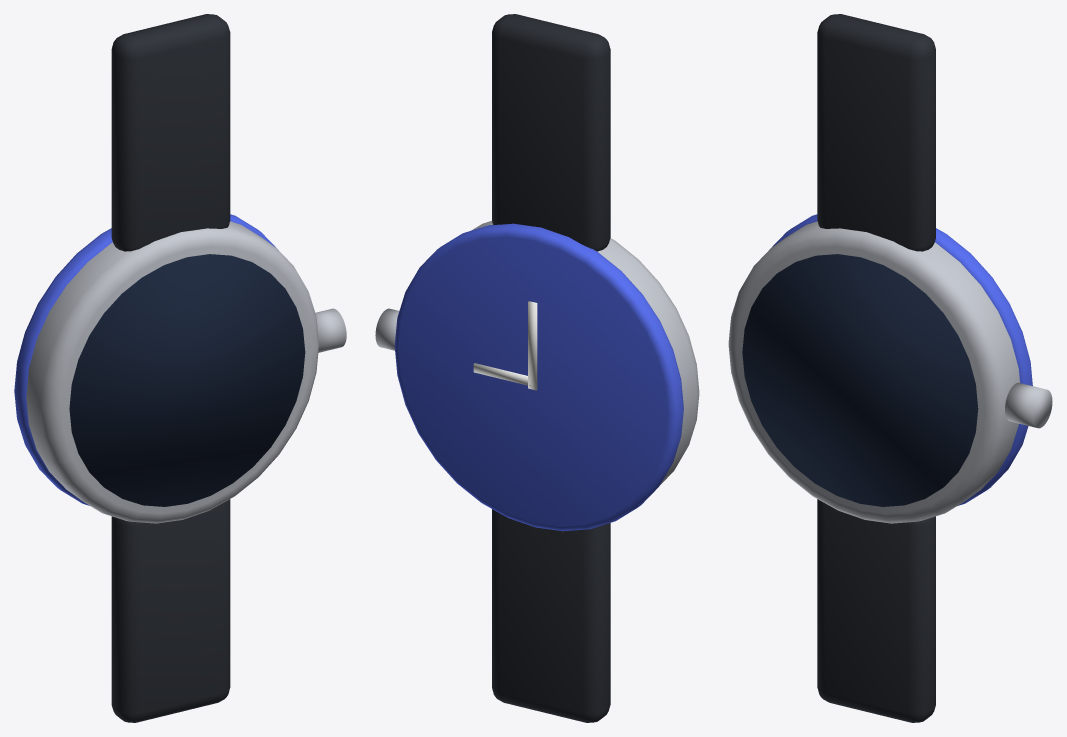
The model's file is watch.glb.
The picture shows the model from 3 angles, left to right: view 1: azimuth 30°, elevation 25°; view 2: azimuth 150°, elevation 25°; view 3: azimuth 330°, elevation 25°; orthographic projection.
Parts seen in each view (by area): view 1: face, strap.001, strap, case, bezel, crown; view 2: bezel, strap.001, strap, case, hand, crown, hand2; view 3: face, strap.001, strap, case, bezel, crown.
Boxes of the visible parts, bbox=[...] form: face: bbox=[69, 254, 305, 506]; strap.001: bbox=[111, 14, 230, 251]; strap: bbox=[111, 499, 230, 722]; case: bbox=[26, 221, 318, 523]; bezel: bbox=[14, 214, 278, 505]; crown: bbox=[315, 308, 346, 352]; bezel: bbox=[394, 223, 683, 531]; strap.001: bbox=[492, 14, 610, 251]; strap: bbox=[492, 509, 610, 722]; case: bbox=[472, 221, 699, 484]; hand: bbox=[528, 301, 537, 390]; crown: bbox=[375, 308, 399, 350]; hand2: bbox=[473, 363, 533, 385]; face: bbox=[742, 254, 978, 506]; strap.001: bbox=[817, 14, 935, 251]; strap: bbox=[817, 499, 935, 722]; case: bbox=[728, 221, 1019, 523]; bezel: bbox=[769, 214, 1032, 505]; crown: bbox=[1005, 382, 1052, 428].
Bounding box in the file's own units: 0.445 × 0.946 × 0.09.
